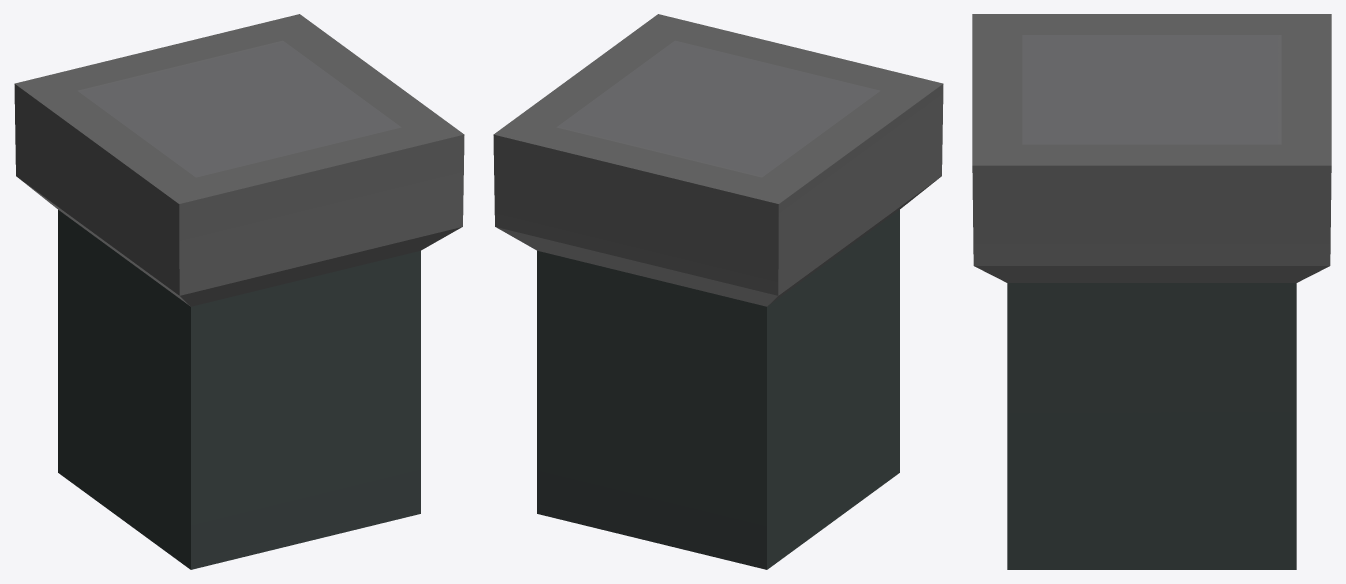
File: Chimney_2_C_2.fbx
3 renders of one model, left to right at view 1: azimuth 30°, elevation 25°; view 2: azimuth 150°, elevation 25°; view 3: azimuth 270°, elevation 25°, orthographic. The views are drawn at different scales.
Visible parts, largest first — view 1: Chimney_2_C_2; view 2: Chimney_2_C_2; view 3: Chimney_2_C_2.
Part boxes in pixels (bbox=[...]): Chimney_2_C_2: bbox=[14, 14, 464, 569]; Chimney_2_C_2: bbox=[493, 14, 943, 569]; Chimney_2_C_2: bbox=[972, 14, 1331, 569].
Bounding box in the file's own units: 63.29 × 81.45 × 63.29.
